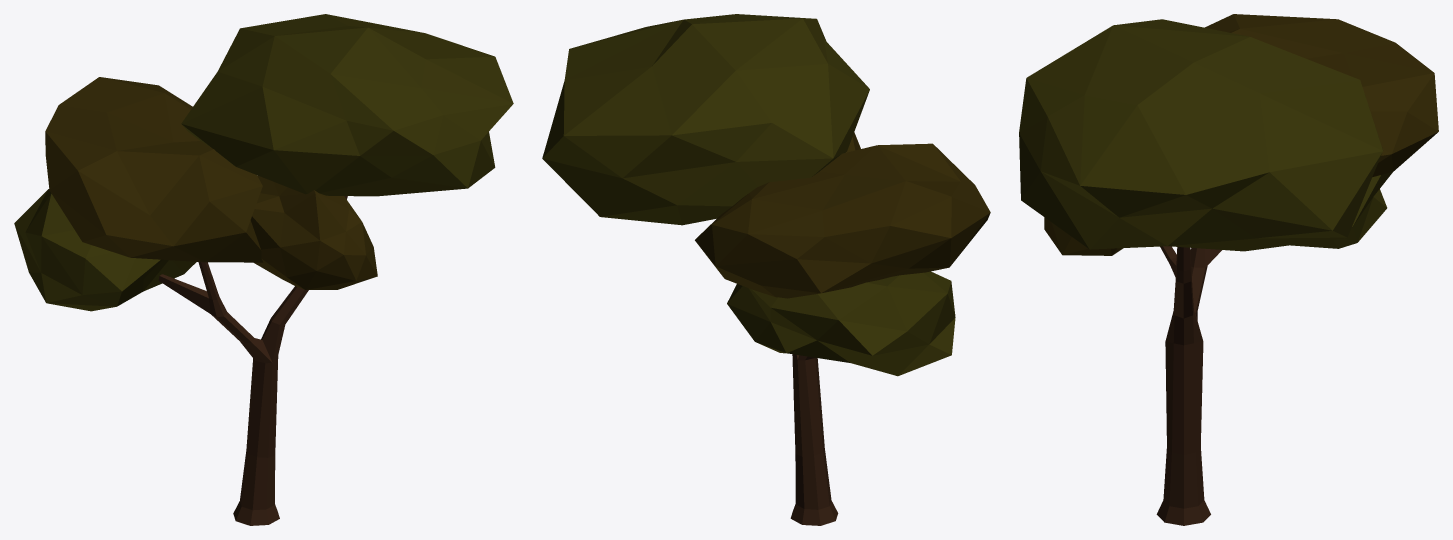
The model's file is enchantedforest_tree_4.glb.
3 renders of one model, left to right at view 1: azimuth 30°, elevation 25°; view 2: azimuth 150°, elevation 25°; view 3: azimuth 270°, elevation 25°, orthographic. The views are drawn at different scales.
Visible parts, largest first — view 1: Icosphere.014.1, Cylinder.010.2; view 2: Icosphere.014.1, Cylinder.010.2; view 3: Icosphere.014.1, Cylinder.010.2.
Boxes of the visible parts, left/top/right/bottom form: Icosphere.014.1: left=14, top=14, right=513, bottom=311; Cylinder.010.2: left=158, top=196, right=347, bottom=525; Icosphere.014.1: left=542, top=14, right=990, bottom=376; Cylinder.010.2: left=790, top=354, right=838, bottom=525; Icosphere.014.1: left=1019, top=14, right=1438, bottom=255; Cylinder.010.2: left=1156, top=246, right=1221, bottom=525.
Bounding box in the file's own units: 6.06 × 6.41 × 4.74.
